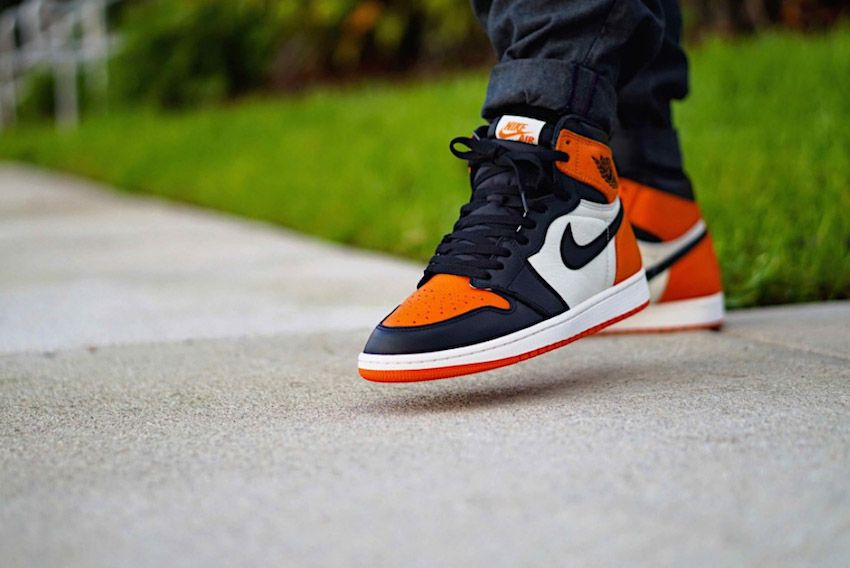Jordan 1: (352, 106, 657, 390)
